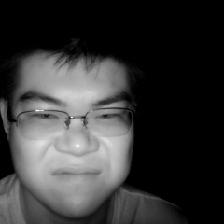sad: (13, 32, 144, 219)
